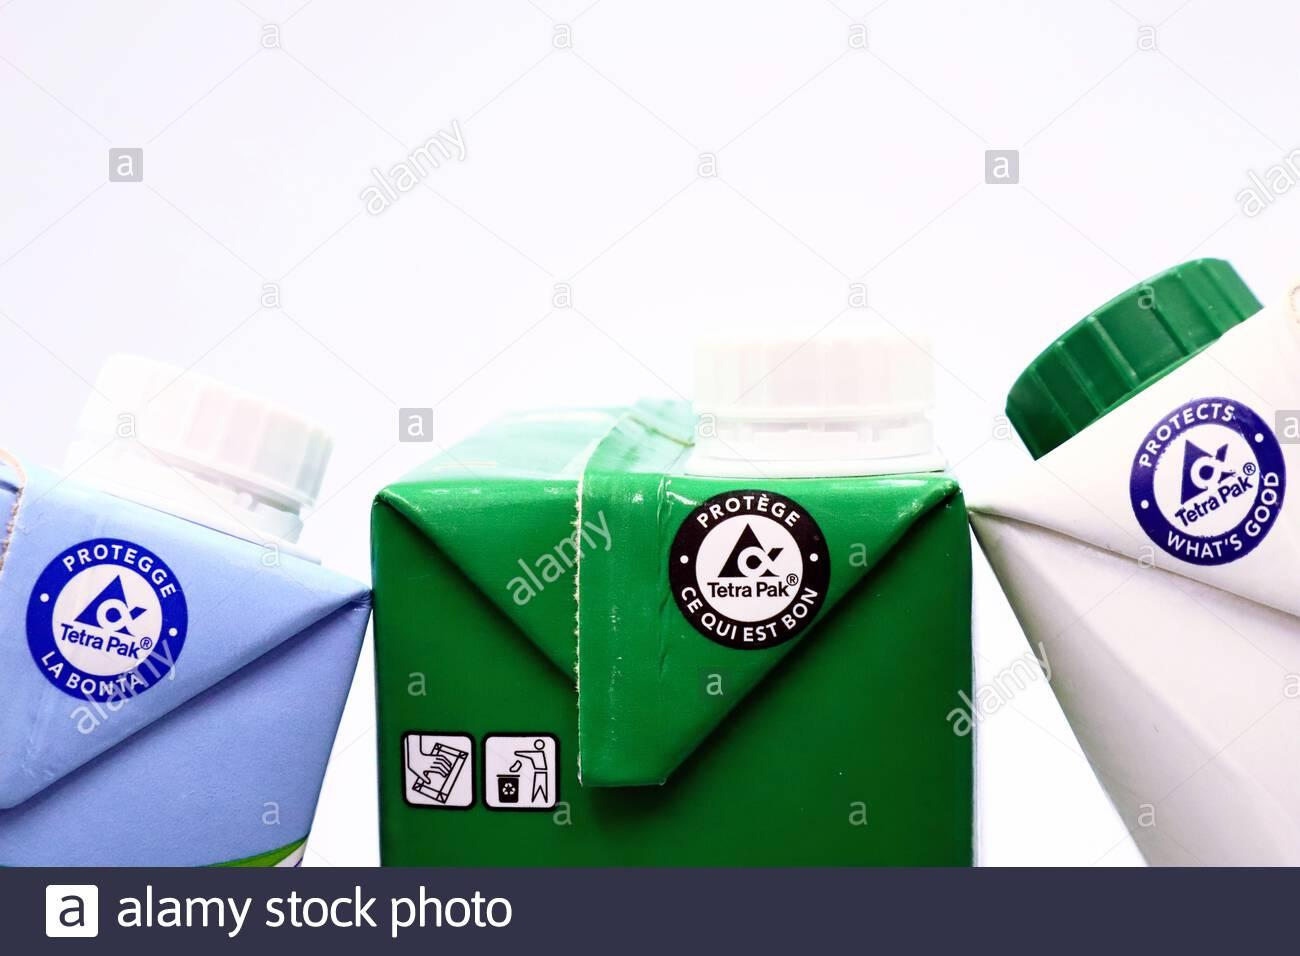cardboard: (372, 327, 973, 868), (959, 259, 1299, 866), (0, 358, 369, 866)
